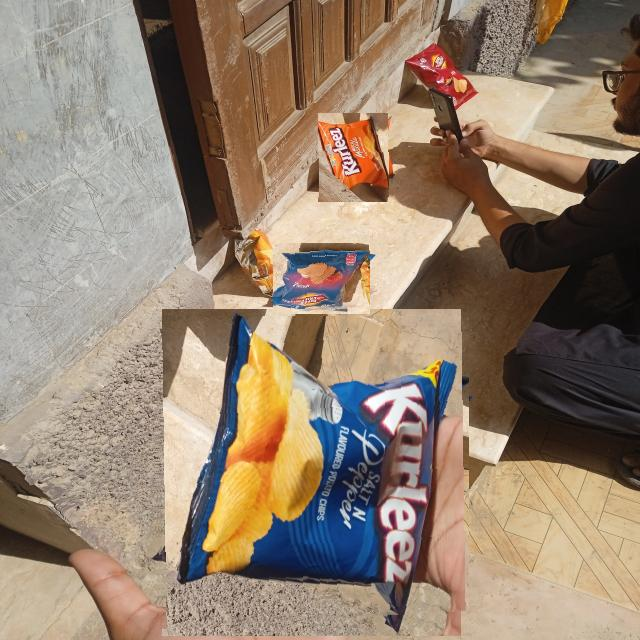Plastic: (155, 316, 469, 629), (273, 243, 370, 314), (313, 117, 393, 197)
